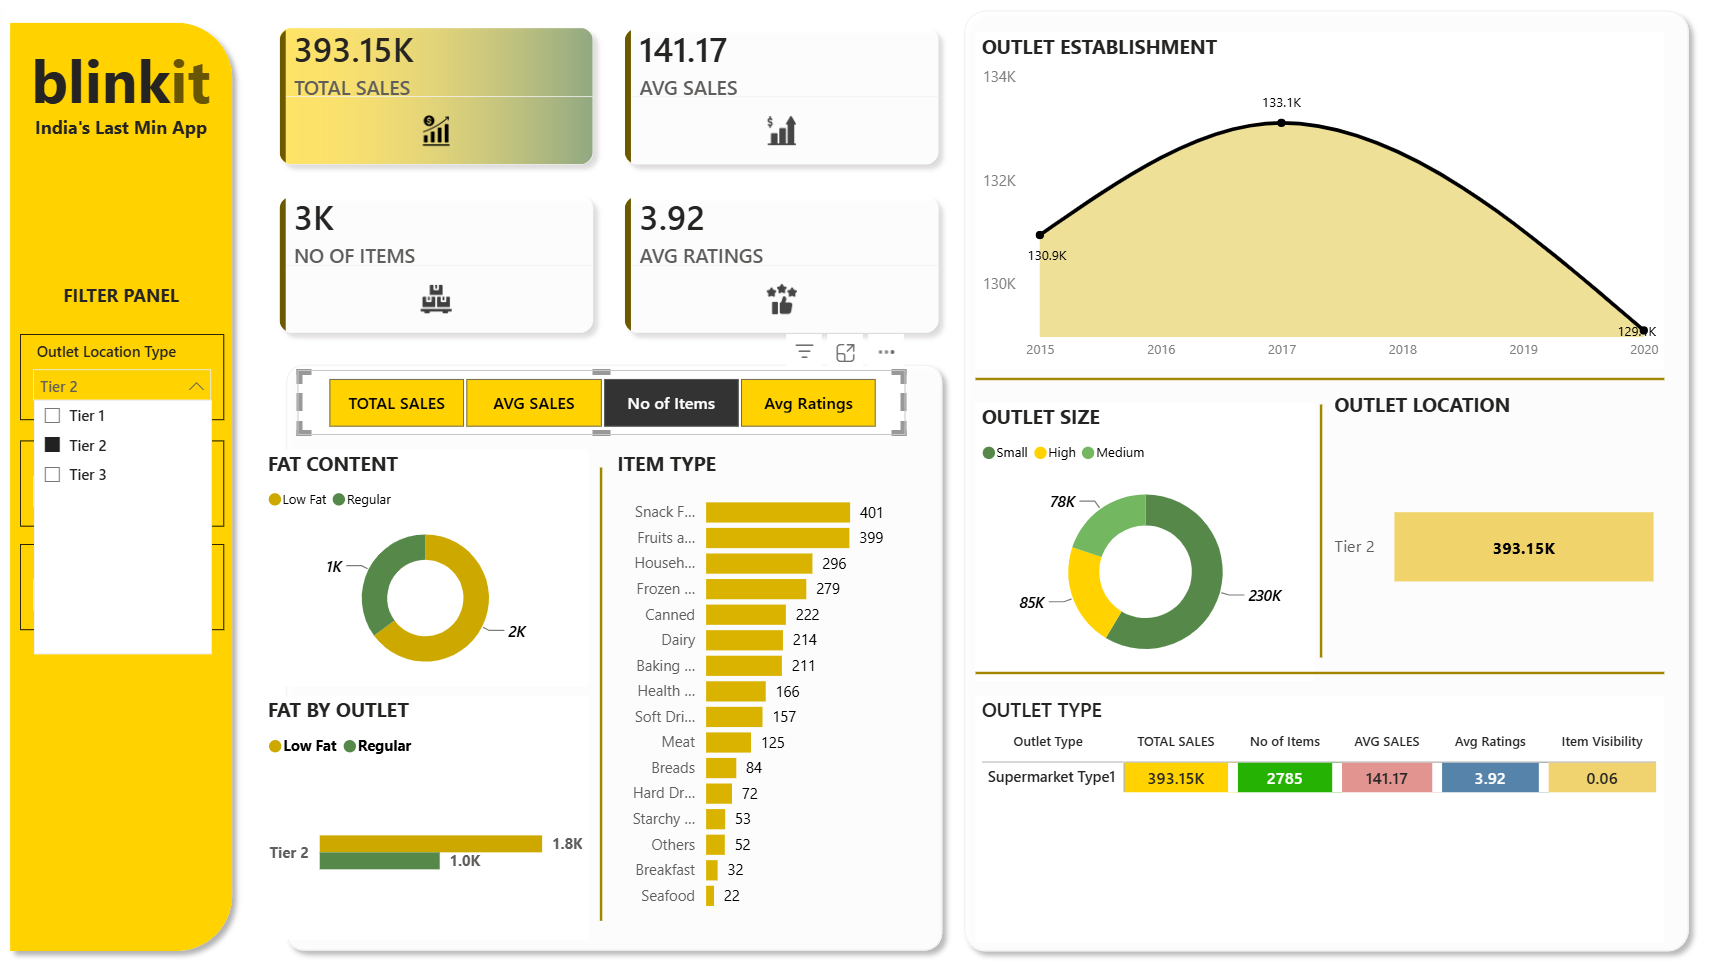

The page's visual inventory and layout, read from the dashboard file:
{"tool":"powerbi","page":{"name":"Page 1","canvas":[1400,800],"ordinal":0},"visuals":[{"type":"shape","box":[0,15.7,198.6,772.9],"z":0},{"type":"textbox","box":[10,32.9,178.6,108.6],"z":1000},{"type":"textbox","box":[0,94.3,198.6,37.1],"z":2000},{"type":"cardVisual","fields":{"Data":["BlinkIT Grocery Data.TOTAL SALES","BlinkIT Grocery Data.AVG SALES","BlinkIT Grocery Data.No of Items","BlinkIT Grocery Data.Avg Ratings"]},"box":[198.6,0,595.7,307.1],"z":3000},{"type":"shape","box":[224.3,294.3,551.4,494.3],"z":4000},{"type":"donutChart","title":"FAT CONTENT","fields":{"Y":["BlinkIT Grocery Data.No of Items"],"Category":["BlinkIT Grocery Data.Item Fat Content"]},"box":[212.9,371.4,265.7,192.9],"z":5000},{"type":"slicer","fields":{"Values":["Metrics.Metrics"]},"box":[242.9,307.1,494.3,52.9],"z":6000},{"type":"clusteredBarChart","title":"FAT BY OUTLET","fields":{"Y":["BlinkIT Grocery Data.No of Items"],"Category":["BlinkIT Grocery Data.Outlet Location Type"],"Series":["BlinkIT Grocery Data.Item Fat Content"]},"box":[212.9,571.4,265.7,198.6],"z":7000},{"type":"shape","box":[478.6,387.1,22.9,368.6],"z":8000},{"type":"barChart","title":"ITEM TYPE","fields":{"Y":["BlinkIT Grocery Data.No of Items"],"Category":["BlinkIT Grocery Data.Item Type"]},"box":[497.1,371.4,257.1,384.3],"z":9000},{"type":"shape","box":[775.7,5.7,607.1,782.9],"z":10000},{"type":"lineChart","title":"OUTLET ESTABLISHMENT","fields":{"Category":["BlinkIT Grocery Data.Outlet Establishment Year"],"Y":["BlinkIT Grocery Data.TOTAL SALES"]},"box":[794.3,32.9,560,274.3],"z":11000},{"type":"shape","box":[794.3,294.3,560,41.4],"z":12000},{"type":"donutChart","title":"OUTLET SIZE","fields":{"Y":["BlinkIT Grocery Data.TOTAL SALES"],"Category":["BlinkIT Grocery Data.Outlet Size"]},"box":[794.3,334.3,275.7,225.7],"z":13000},{"type":"shape","box":[1062.9,335.7,22.9,205.7],"z":14000},{"type":"funnel","title":"OUTLET LOCATION","fields":{"Y":["Sum(BlinkIT Grocery Data.Sales)"],"Category":["BlinkIT Grocery Data.Outlet Location Type"]},"box":[1080,324.3,274.3,230],"z":15000},{"type":"shape","box":[794.3,532.9,560,41.4],"z":16000},{"type":"pivotTable","title":"OUTLET TYPE","fields":{"Rows":["BlinkIT Grocery Data.Outlet Type"],"Values":["BlinkIT Grocery Data.TOTAL SALES","BlinkIT Grocery Data.No of Items","BlinkIT Grocery Data.AVG SALES","BlinkIT Grocery Data.Avg Ratings","Avg(BlinkIT Grocery Data.Item Visibility)"]},"box":[794.3,571.4,560,201.4],"z":17000},{"type":"slicer","fields":{"Values":["BlinkIT Grocery Data.Outlet Location Type"]},"box":[17.1,278.6,165.7,70],"z":18000},{"type":"slicer","fields":{"Values":["BlinkIT Grocery Data.Outlet Size"]},"box":[17.1,364.3,165.7,70],"z":19000},{"type":"slicer","fields":{"Values":["BlinkIT Grocery Data.Item Type"]},"box":[17.1,448.6,165.7,70],"z":20000},{"type":"textbox","box":[0,230,198.6,48.6],"z":21000}]}

Visuals, with their boxes in screenshot pixels (x1, y1, x2, y2), scaled from the page's 1400x800 canvas onto the 1719x970 screenshot:
shape: pyautogui.locateOnScreen(0, 19, 244, 956)
textbox: pyautogui.locateOnScreen(12, 40, 232, 172)
textbox: pyautogui.locateOnScreen(0, 114, 244, 159)
cardVisual - BlinkIT Grocery Data.TOTAL SALES x BlinkIT Grocery Data.AVG SALES: pyautogui.locateOnScreen(244, 0, 975, 372)
shape: pyautogui.locateOnScreen(275, 357, 952, 956)
"FAT CONTENT" donutChart: pyautogui.locateOnScreen(261, 450, 588, 684)
slicer - Metrics.Metrics: pyautogui.locateOnScreen(298, 372, 905, 436)
"FAT BY OUTLET" clusteredBarChart: pyautogui.locateOnScreen(261, 693, 588, 934)
shape: pyautogui.locateOnScreen(588, 469, 616, 916)
"ITEM TYPE" barChart: pyautogui.locateOnScreen(610, 450, 926, 916)
shape: pyautogui.locateOnScreen(952, 7, 1698, 956)
"OUTLET ESTABLISHMENT" lineChart: pyautogui.locateOnScreen(975, 40, 1663, 372)
shape: pyautogui.locateOnScreen(975, 357, 1663, 407)
"OUTLET SIZE" donutChart: pyautogui.locateOnScreen(975, 405, 1314, 679)
shape: pyautogui.locateOnScreen(1305, 407, 1333, 656)
"OUTLET LOCATION" funnel: pyautogui.locateOnScreen(1326, 393, 1663, 672)
shape: pyautogui.locateOnScreen(975, 646, 1663, 696)
"OUTLET TYPE" pivotTable: pyautogui.locateOnScreen(975, 693, 1663, 937)
slicer - BlinkIT Grocery Data.Outlet Location Type: pyautogui.locateOnScreen(21, 338, 224, 423)
slicer - BlinkIT Grocery Data.Outlet Size: pyautogui.locateOnScreen(21, 442, 224, 527)
slicer - BlinkIT Grocery Data.Item Type: pyautogui.locateOnScreen(21, 544, 224, 629)
textbox: pyautogui.locateOnScreen(0, 279, 244, 338)
